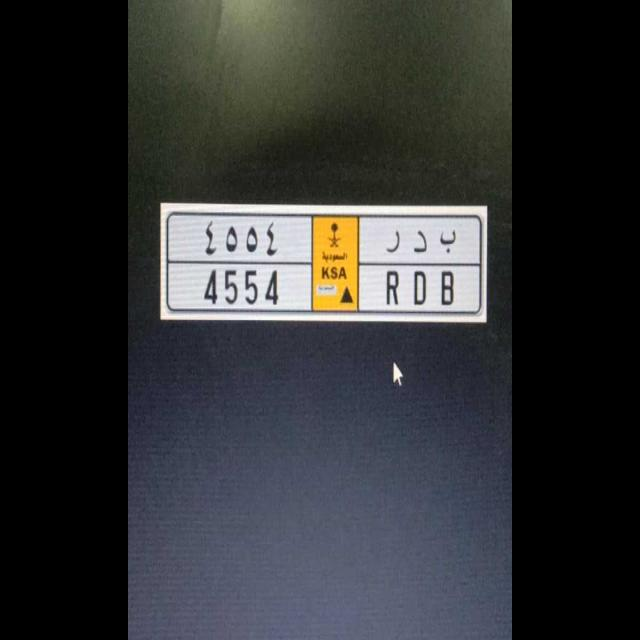license_plate: (178, 260, 472, 318)
